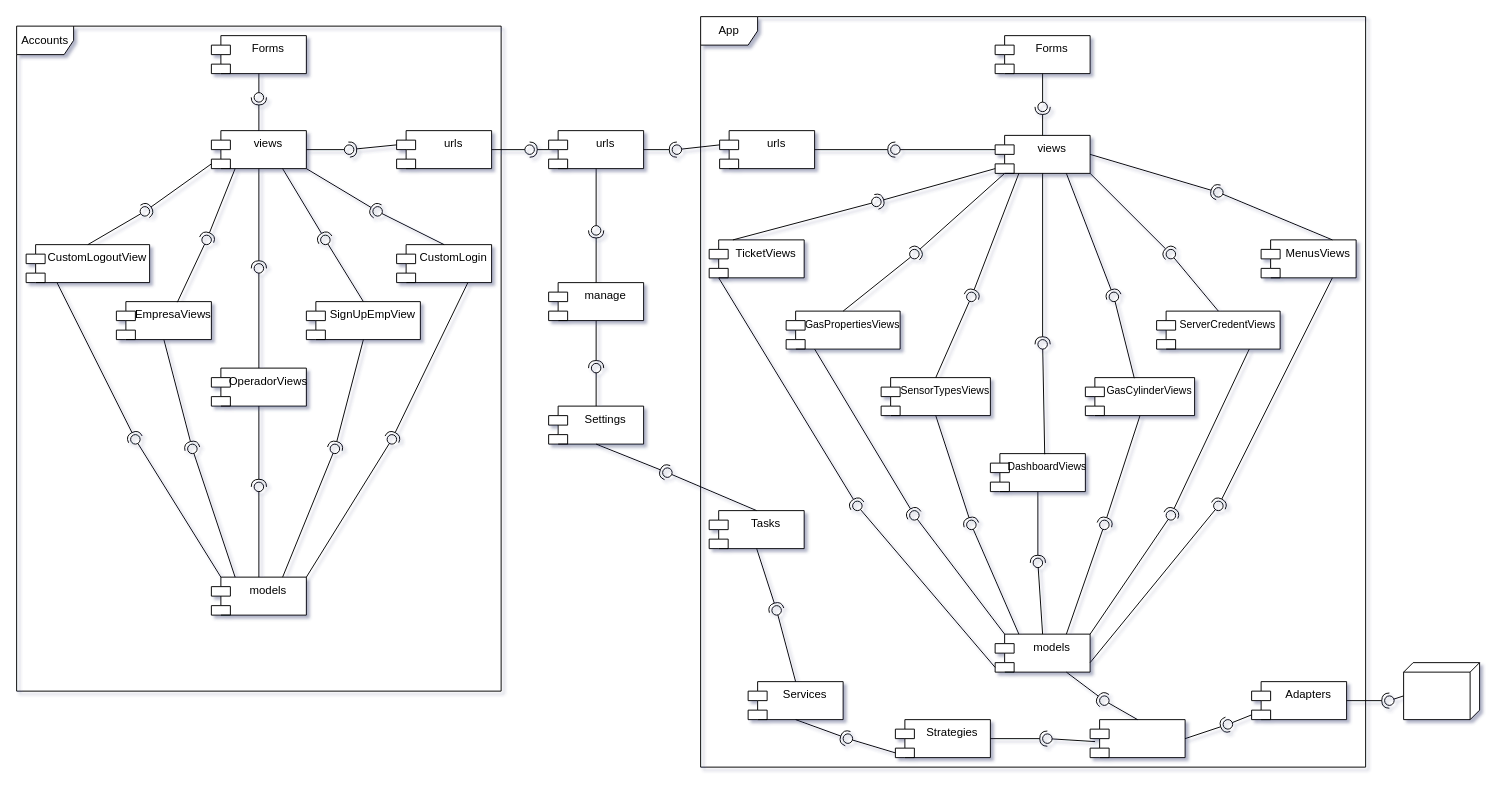
Image size: 1502x789. Some labels were removed from this diagram. Here are the shapes that lost their labels. From the top down, the centre of each, then its label:
At pixel 1441 691: "TOPRIE API Rest".
At pixel 1137 738: "Repositories".
